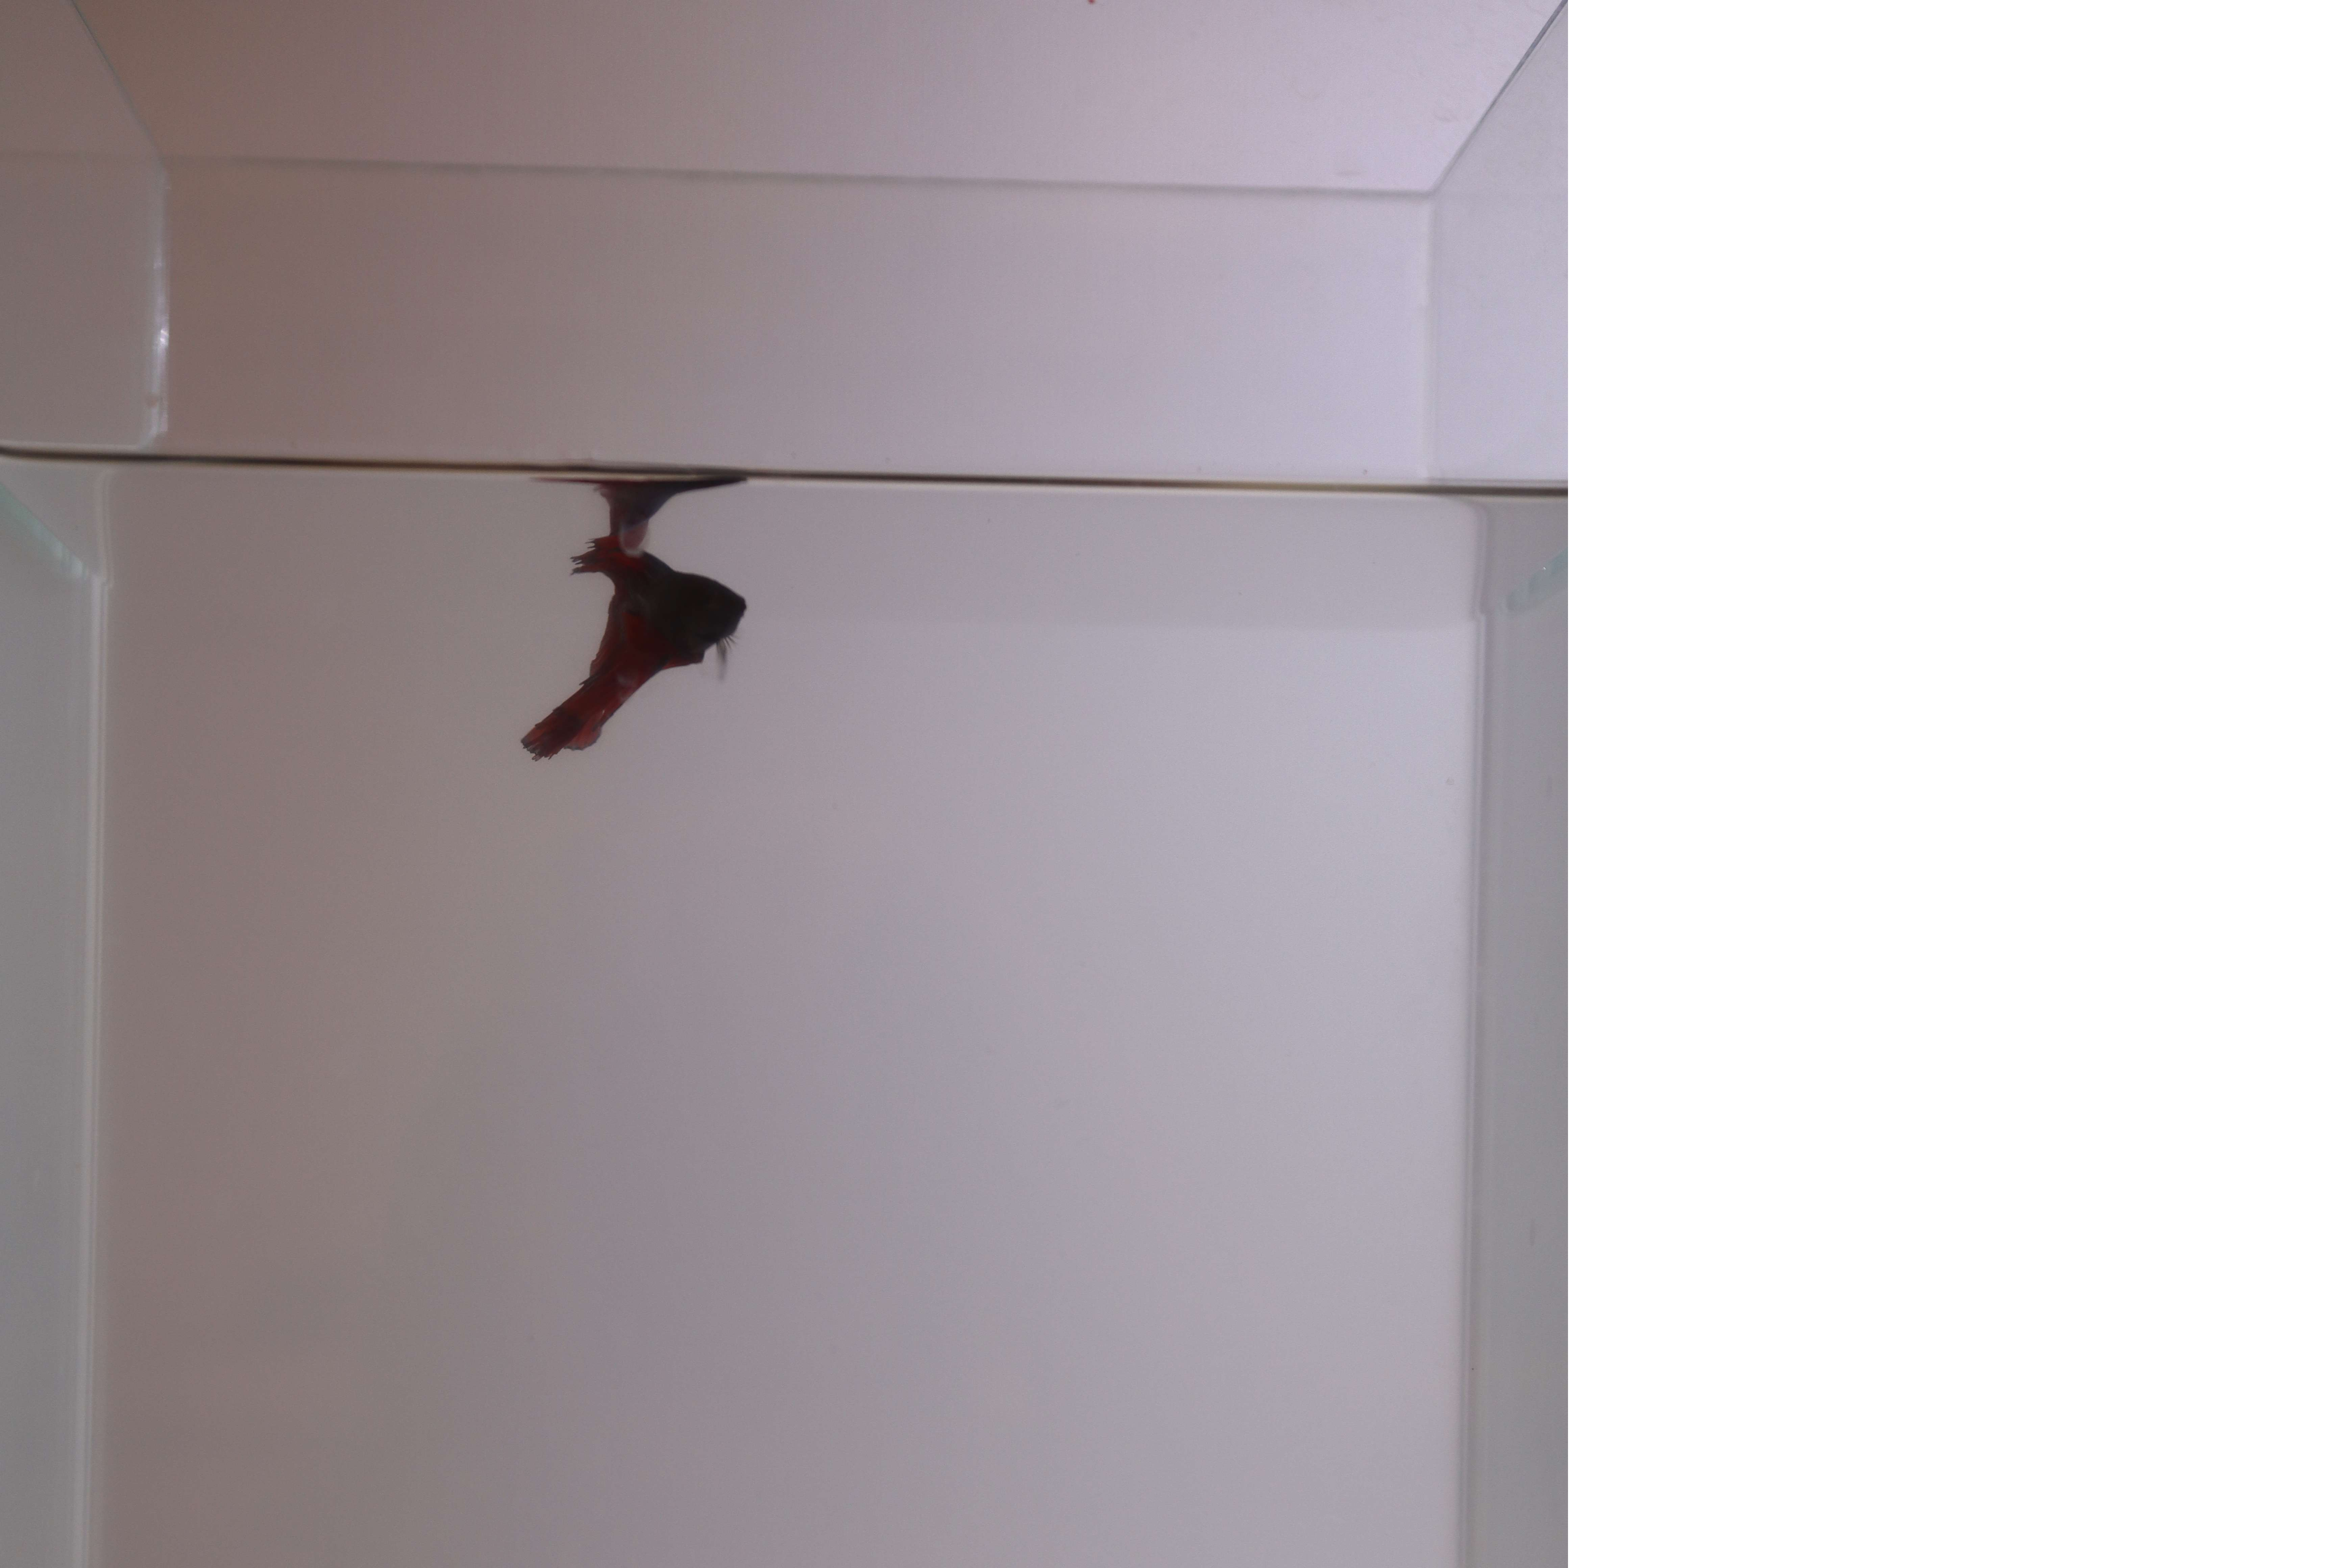fish: (508, 541, 774, 761)
